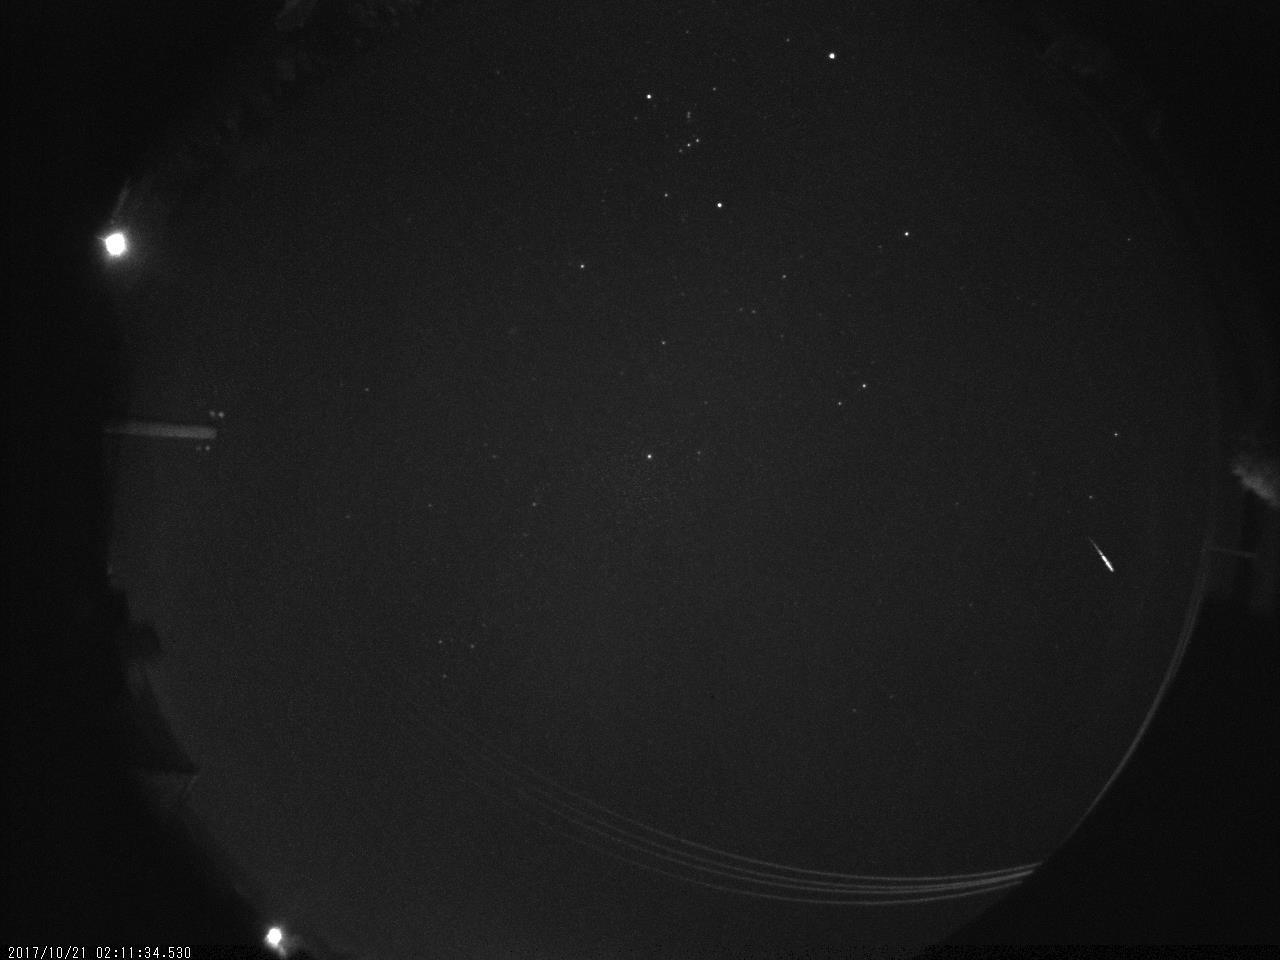Meteor: (1089, 533, 1118, 573)
